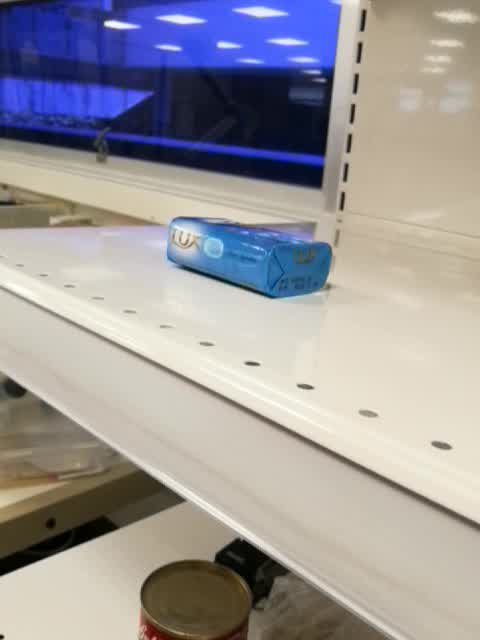soap: (165, 215, 334, 301)
